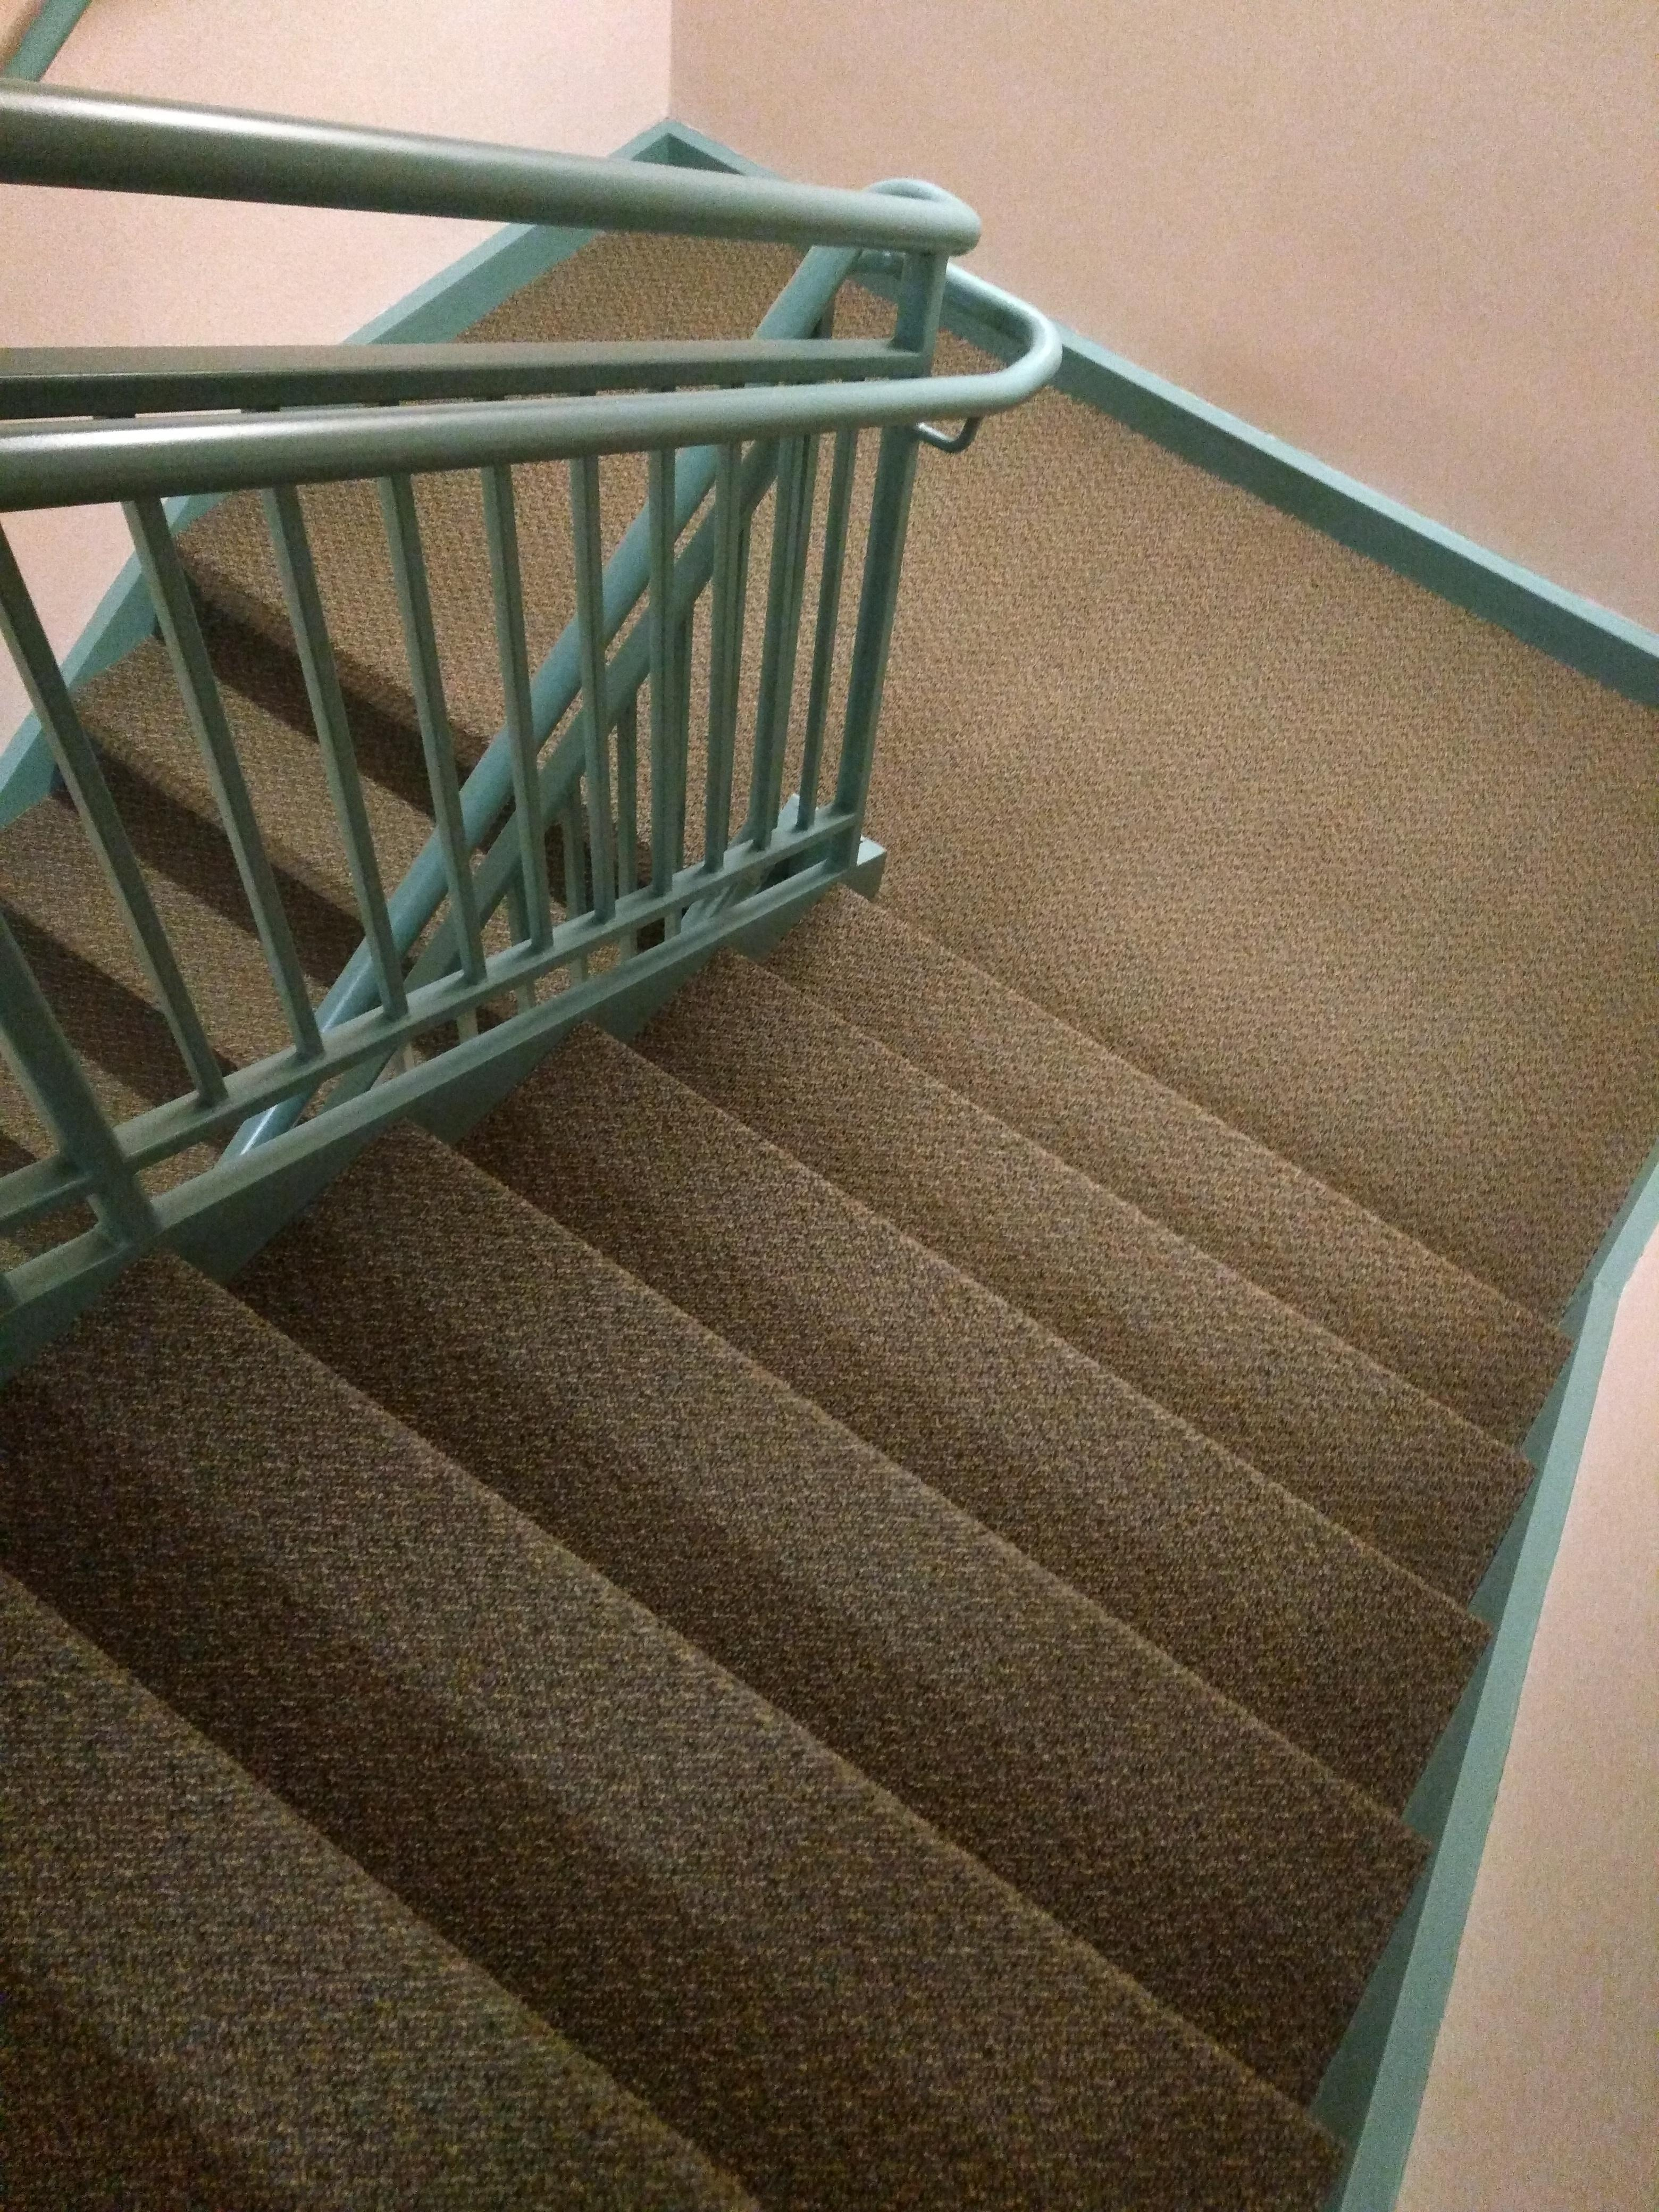stairs_down: (49, 831, 1612, 2168)
